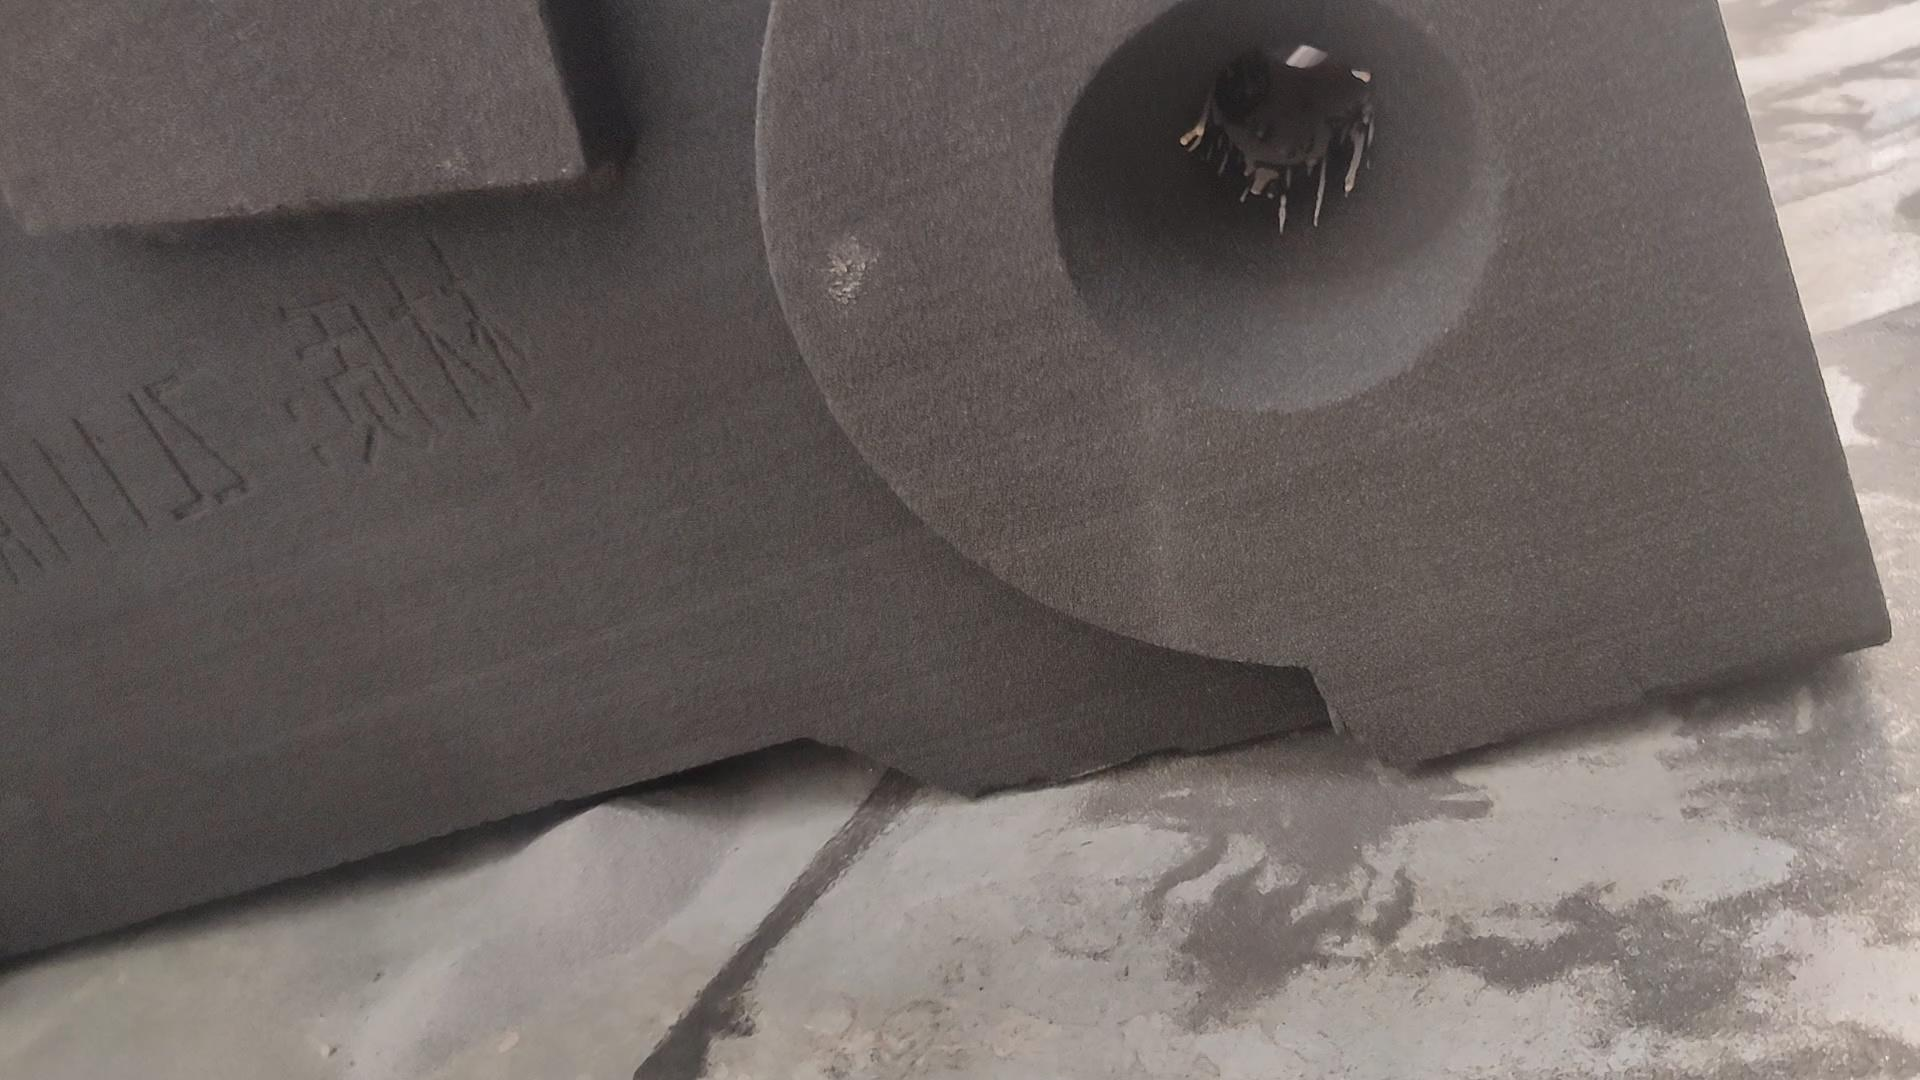pouring hole: (1048, 1, 1494, 411)
